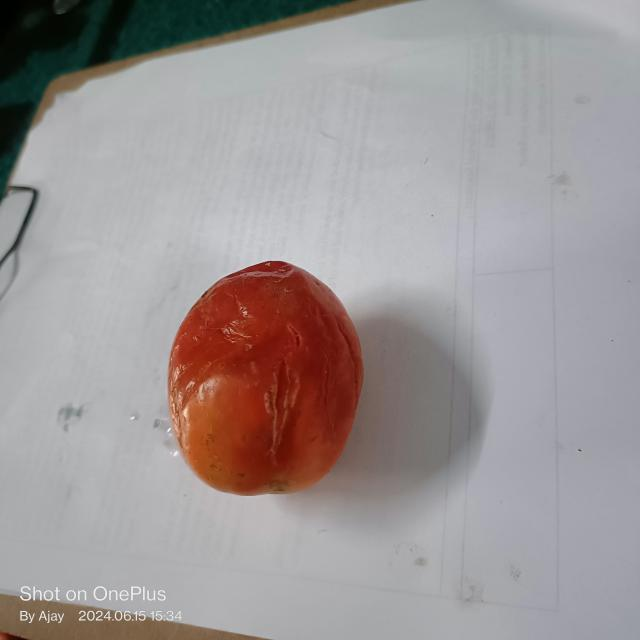Botrytis: (266, 358, 292, 456), (283, 319, 301, 350)
